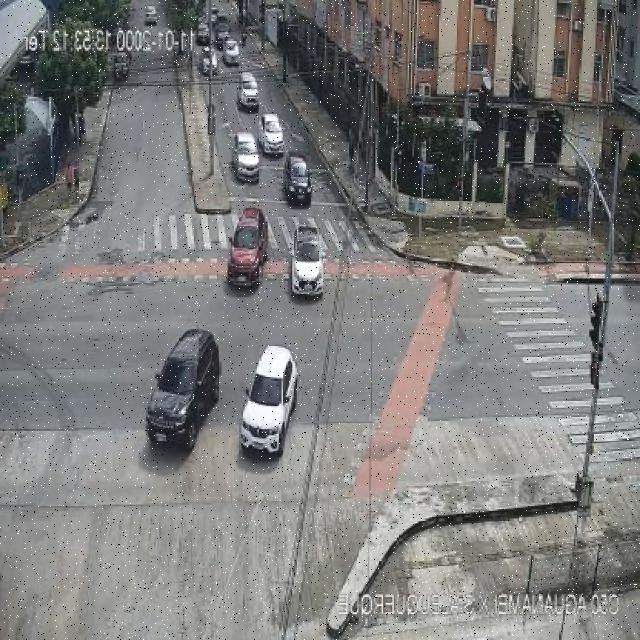Car: (145, 328, 220, 458), (239, 346, 300, 458), (228, 207, 272, 288), (289, 222, 324, 298), (283, 153, 312, 206), (232, 131, 261, 180), (258, 112, 285, 154), (236, 72, 260, 110), (200, 49, 220, 77), (213, 15, 231, 44), (222, 39, 241, 66), (144, 5, 159, 25), (197, 23, 210, 45)
